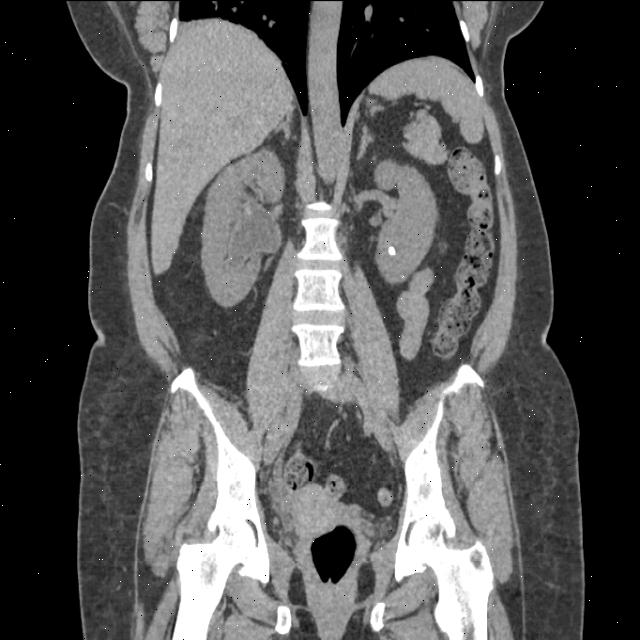kidneystone: (389, 246, 396, 256)
